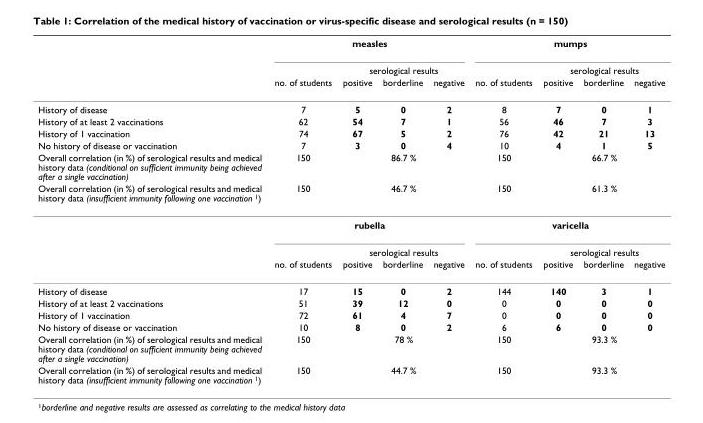table: (37, 37, 664, 384)
table column: (37, 37, 267, 384), (267, 37, 336, 384), (469, 37, 537, 384), (376, 37, 427, 384), (577, 37, 628, 384), (427, 37, 469, 384), (336, 37, 376, 384), (537, 37, 577, 384), (628, 37, 664, 384)
table column header: (37, 37, 664, 95)
table row: (37, 150, 664, 181), (37, 332, 664, 363), (37, 181, 664, 210), (37, 210, 664, 238), (37, 363, 664, 384), (37, 75, 664, 95), (37, 257, 664, 277), (37, 37, 664, 56), (37, 56, 664, 75), (37, 95, 664, 114), (37, 238, 664, 257), (37, 277, 664, 296), (37, 114, 664, 126), (37, 126, 664, 138), (37, 138, 664, 150), (37, 296, 664, 308), (37, 308, 664, 320), (37, 320, 664, 332)
table spanning cell: (37, 181, 267, 277), (267, 210, 469, 238), (469, 210, 664, 238), (336, 150, 469, 181), (336, 332, 469, 363), (537, 150, 664, 181), (537, 332, 664, 363), (336, 181, 469, 210), (267, 37, 469, 56), (469, 37, 664, 56), (537, 181, 664, 210), (336, 363, 469, 384), (267, 56, 336, 95), (537, 363, 664, 384), (469, 56, 537, 95), (336, 56, 469, 75), (336, 238, 469, 257), (537, 56, 664, 75), (537, 238, 664, 257)
